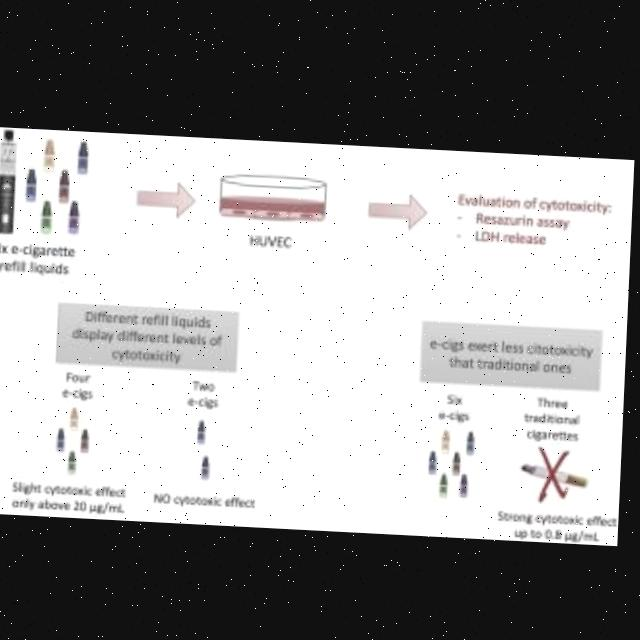cigarette: (524, 457, 593, 482)
vape: (0, 128, 20, 235)
